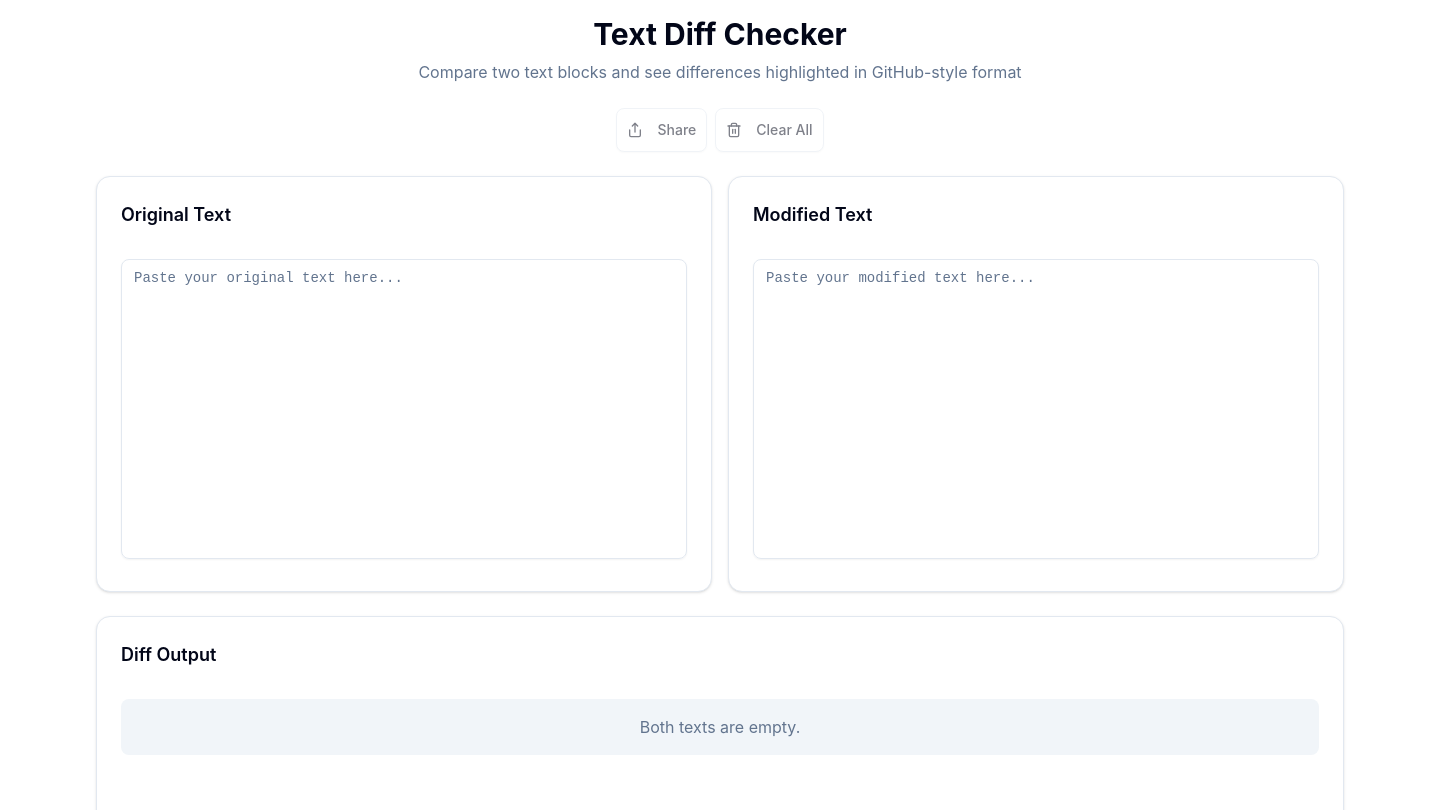
DiffChecker › copy functionality works correctly
# Add different text to generate a diff
In the text box with placeholder "Paste your original text here...": (404, 409) [121,259,687,559], type "Hello World"
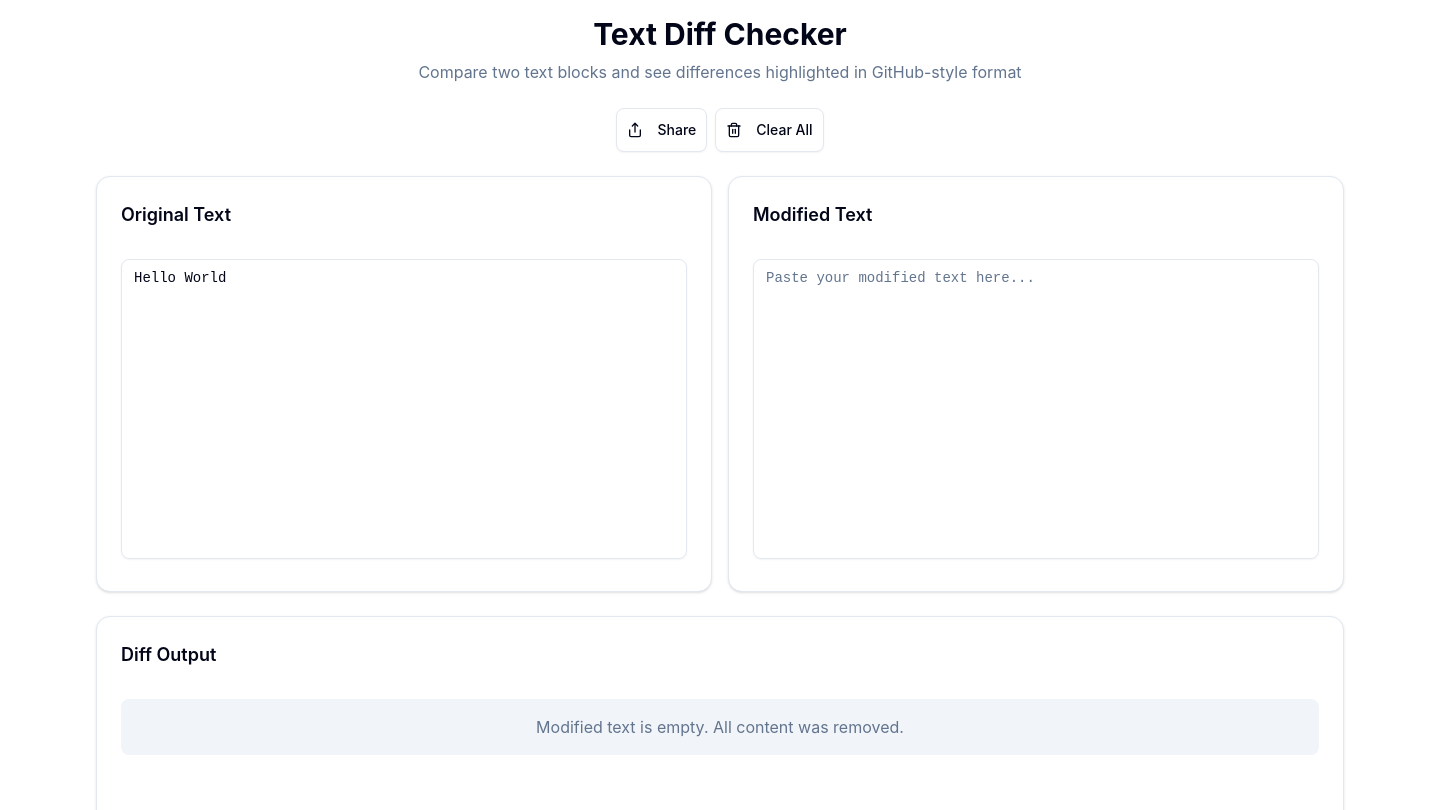
In the text box with placeholder "Paste your modified text here...": (1036, 409) [753,259,1319,559], type "Hello Universe"
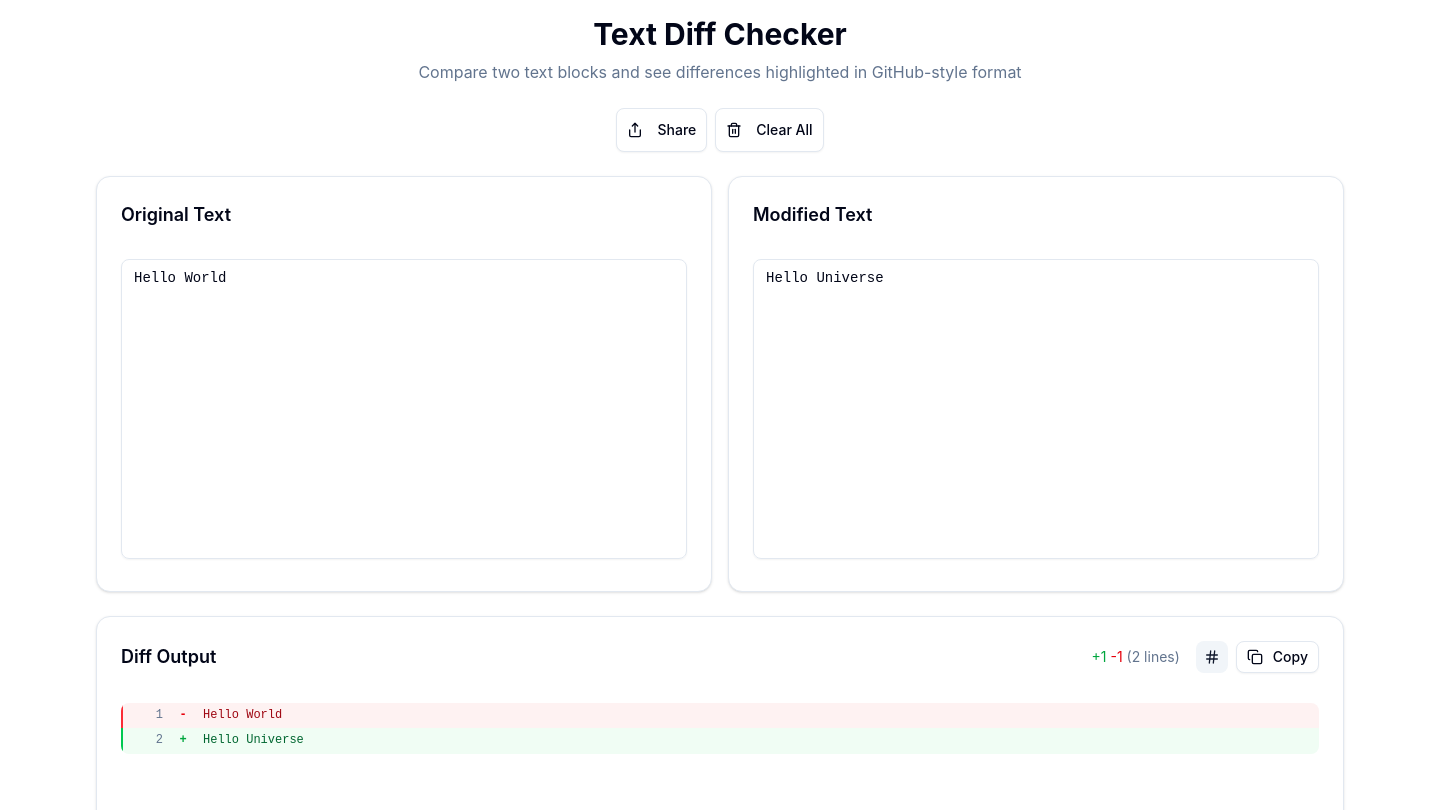
Expected: the button "Copy" is shown
# Click the copy button
Click the button "Copy": click(1277, 657) [1236,641,1319,673]
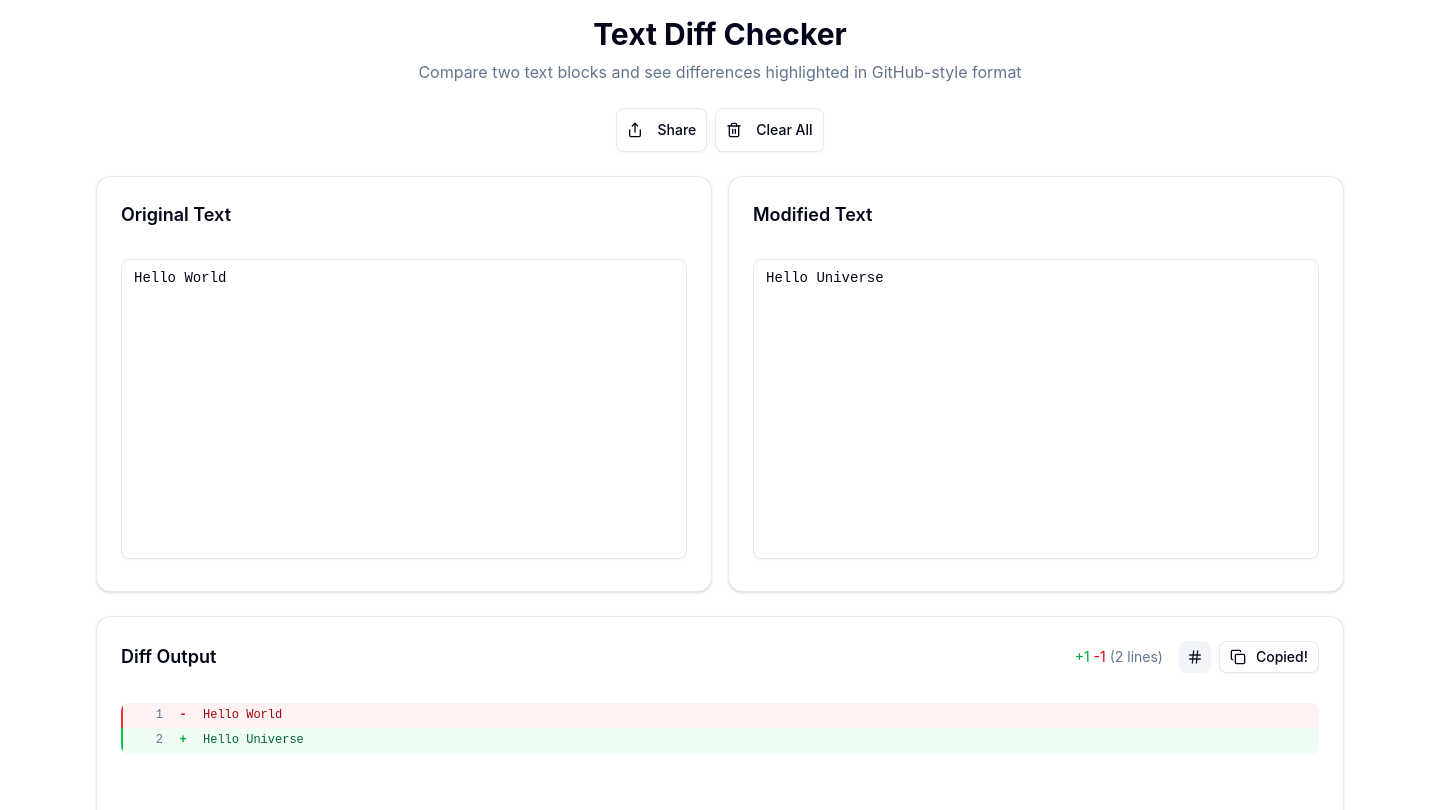
Expected: the button "Copied!" is shown, [1219,641,1319,673]
